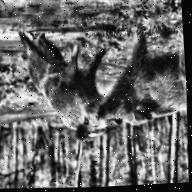boar: (17, 8, 117, 153), (93, 41, 190, 145)
